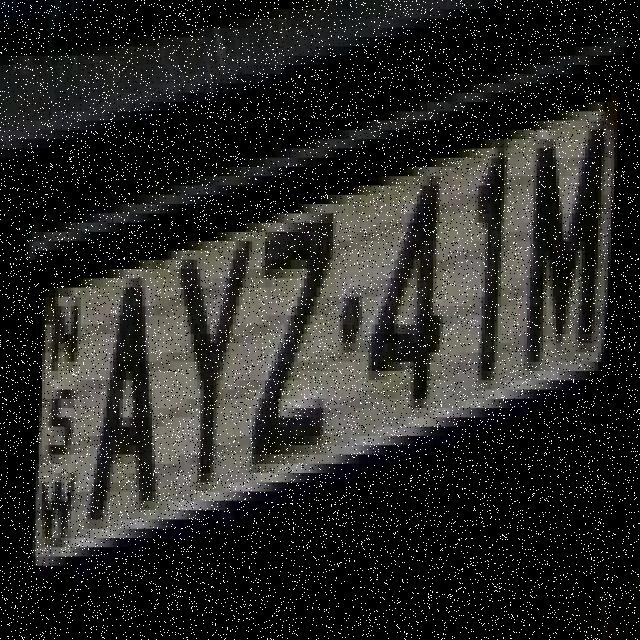licenseplate: (11, 64, 626, 594)
